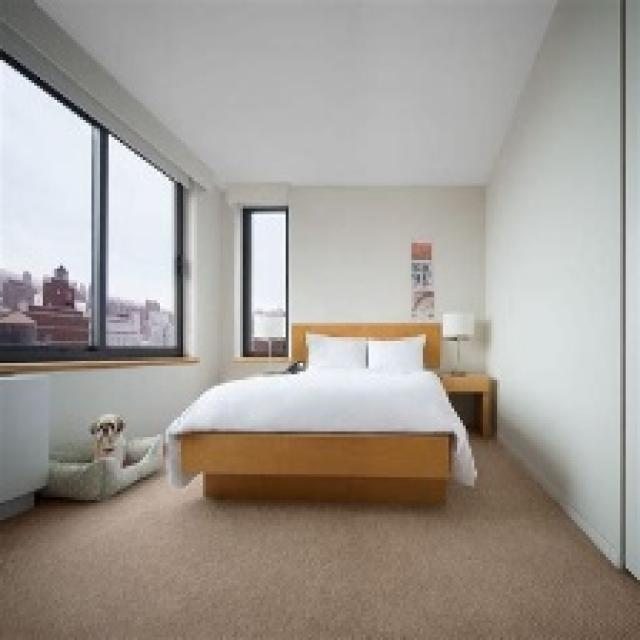Bed: (163, 320, 474, 506)
